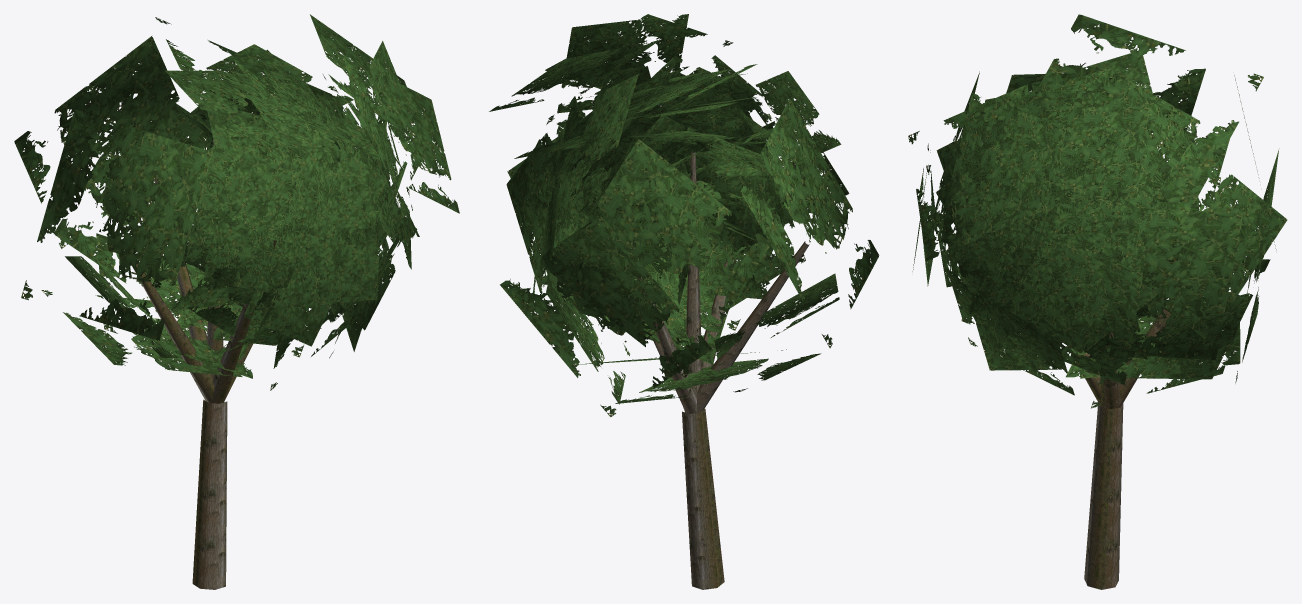
The model's file is tree_oak.glb.
3 views of the same model, side by side, from view 1: azimuth 30°, elevation 25°; view 2: azimuth 150°, elevation 25°; view 3: azimuth 270°, elevation 25° (orthographic). The views are drawn at different scales.
Parts seen in each view (by area): view 1: tree_oak_foliage, tree_oak_body; view 2: tree_oak_foliage, tree_oak_body; view 3: tree_oak_foliage, tree_oak_body.
Part boxes in pixels (x1,y1,x2,y2): tree_oak_foliage: (14,14,459,390); tree_oak_body: (132,139,276,589); tree_oak_foliage: (489,14,879,417); tree_oak_body: (592,152,809,589); tree_oak_foliage: (908,14,1287,408); tree_oak_body: (1067,309,1171,589).
Bounding box in the file's own units: 0.3064 × 0.4266 × 0.2675.
Materials: 2 (2 with a texture image).
